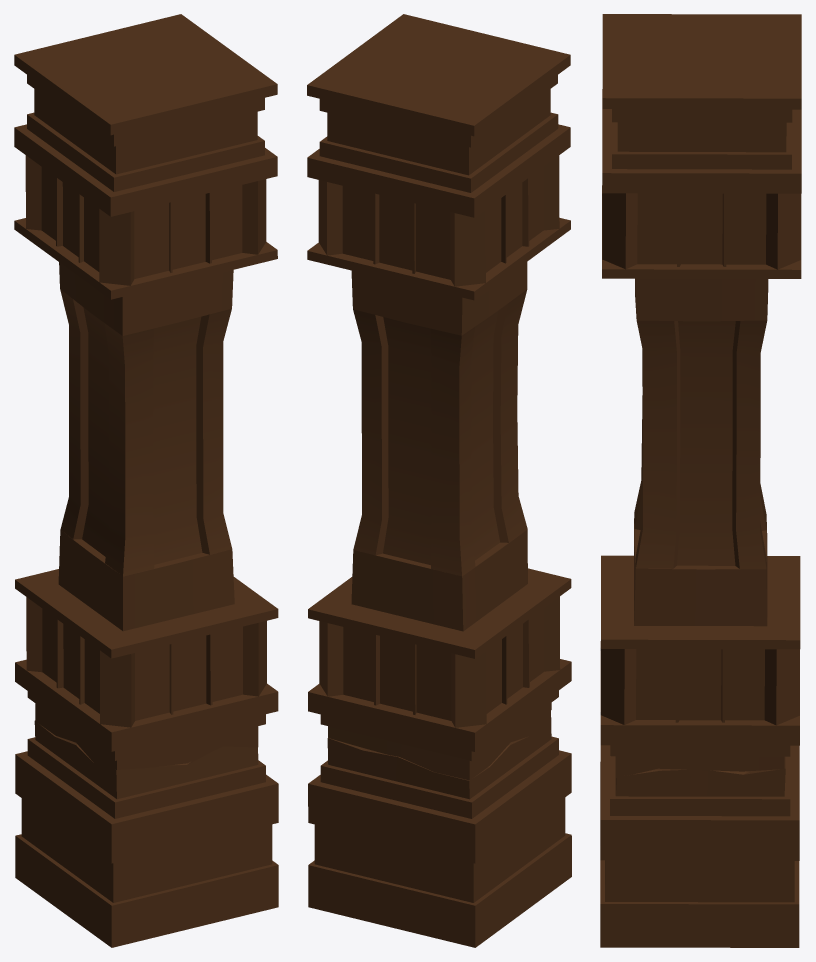
File: scuffed_pillar.fbx
The picture shows the model from 3 angles, left to right: view 1: azimuth 30°, elevation 25°; view 2: azimuth 150°, elevation 25°; view 3: azimuth 270°, elevation 25°; orthographic projection. The views are drawn at different scales.
Visible parts, largest first — view 1: Cube.002, Cube.001; view 2: Cube.002, Cube.001; view 3: Cube.002, Cube.001.
Part boxes in pixels (x1,y1,x2,y2): Cube.002: (14, 14, 278, 769); Cube.001: (15, 720, 278, 947); Cube.002: (307, 14, 571, 780); Cube.001: (308, 711, 571, 947); Cube.002: (600, 14, 801, 778); Cube.001: (600, 745, 799, 947).
Bounding box in the file's own units: 1959 × 9223 × 1983.
